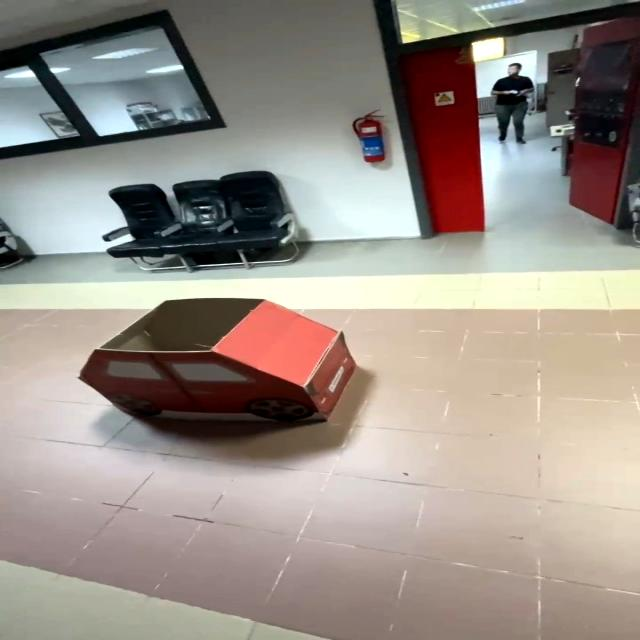red_car: (64, 278, 379, 458)
